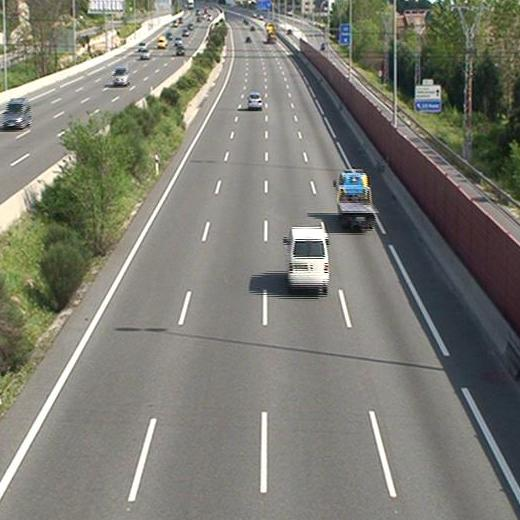car: (246, 90, 264, 109)
small-truck: (333, 168, 379, 229)
van: (284, 228, 329, 288)
